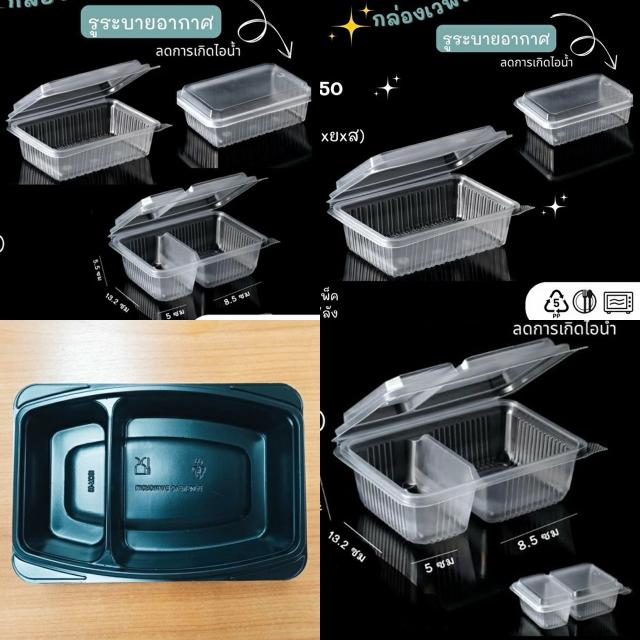Single-Use-Plastic: (12, 384, 306, 582), (334, 339, 604, 544), (329, 126, 528, 276), (110, 172, 278, 301), (8, 60, 168, 181), (178, 64, 311, 148), (514, 74, 632, 146), (510, 564, 628, 629)
